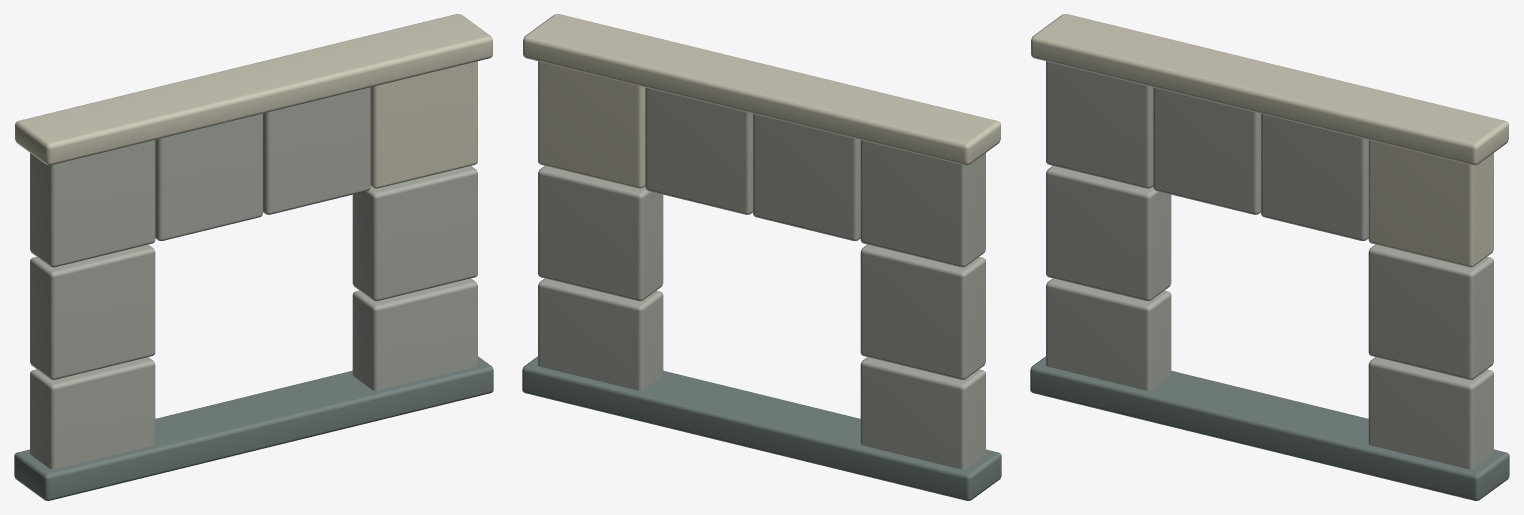
File: SM_Wall_Doorway_Stone_4x3.fbx
3 renders of one model, left to right at view 1: azimuth 30°, elevation 25°; view 2: azimuth 150°, elevation 25°; view 3: azimuth 330°, elevation 25°, orthographic.
Parts seen in each view (by area): view 1: SM_Wall_Doorway_Stone_4x3; view 2: SM_Wall_Doorway_Stone_4x3; view 3: SM_Wall_Doorway_Stone_4x3.
Part boxes in pixels (left/top/right/bottom): SM_Wall_Doorway_Stone_4x3: left=14, top=14, right=493, bottom=500; SM_Wall_Doorway_Stone_4x3: left=522, top=14, right=1001, bottom=500; SM_Wall_Doorway_Stone_4x3: left=1030, top=14, right=1509, bottom=500.
Bounding box in the file's own units: 4.18 × 3.18 × 0.56.
